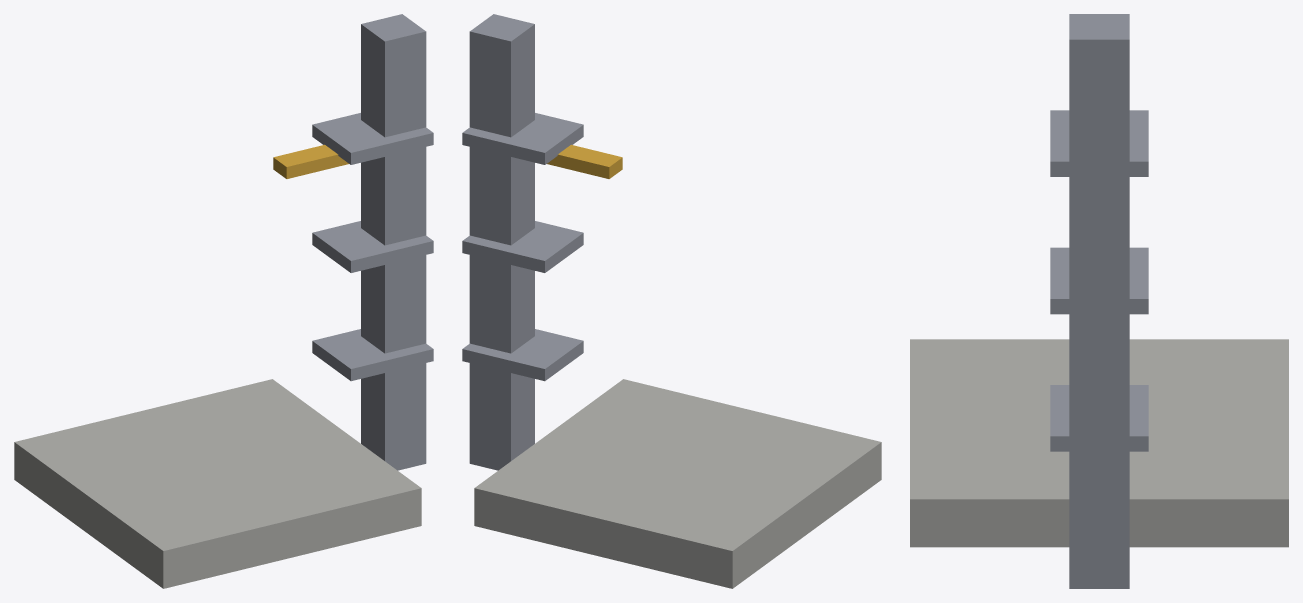
The model's file is pad.obj.
3 renders of one model, left to right at view 1: azimuth 30°, elevation 25°; view 2: azimuth 150°, elevation 25°; view 3: azimuth 270°, elevation 25°, orthographic. The views are drawn at different scales.
Parts seen in each view (by area): view 1: pad; view 2: pad; view 3: pad.
Part boxes in pixels (x1,y1,x2,y2): pad: [14, 14, 433, 588]; pad: [462, 14, 881, 588]; pad: [910, 14, 1288, 588].
Size of the model in its own units: 12.6 by 16 by 10.
